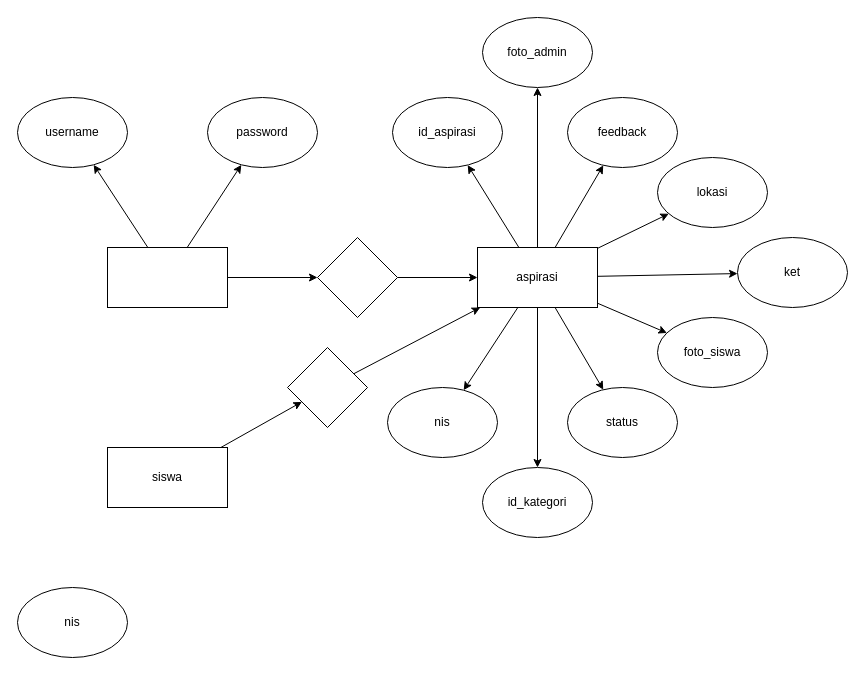
Image size: 865x675. Some labels were removed from this diagram. Here are the shapes that lost their labels. From the top down, the box of each, then its label:
(106, 246, 228, 308): admin
(316, 236, 398, 318): mengelola
(286, 346, 368, 428): mengisi
